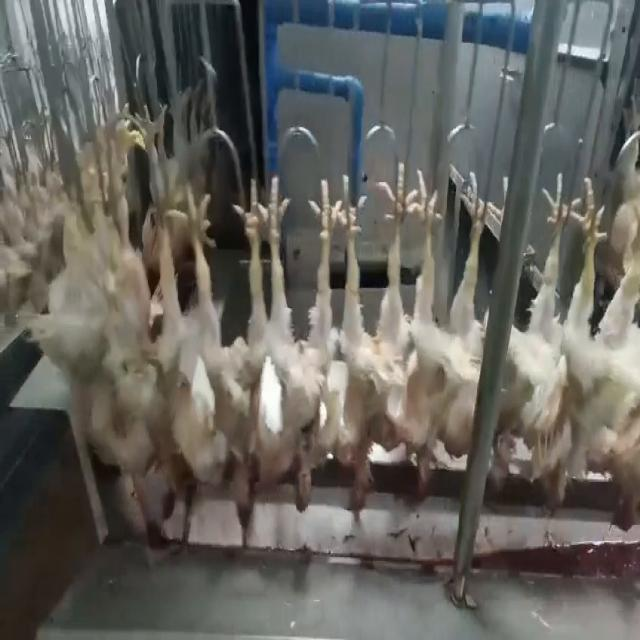chicken: (173, 175, 261, 524), (325, 164, 412, 504), (407, 164, 489, 496), (96, 181, 172, 518), (535, 184, 607, 515), (262, 172, 328, 513), (600, 198, 639, 527)
